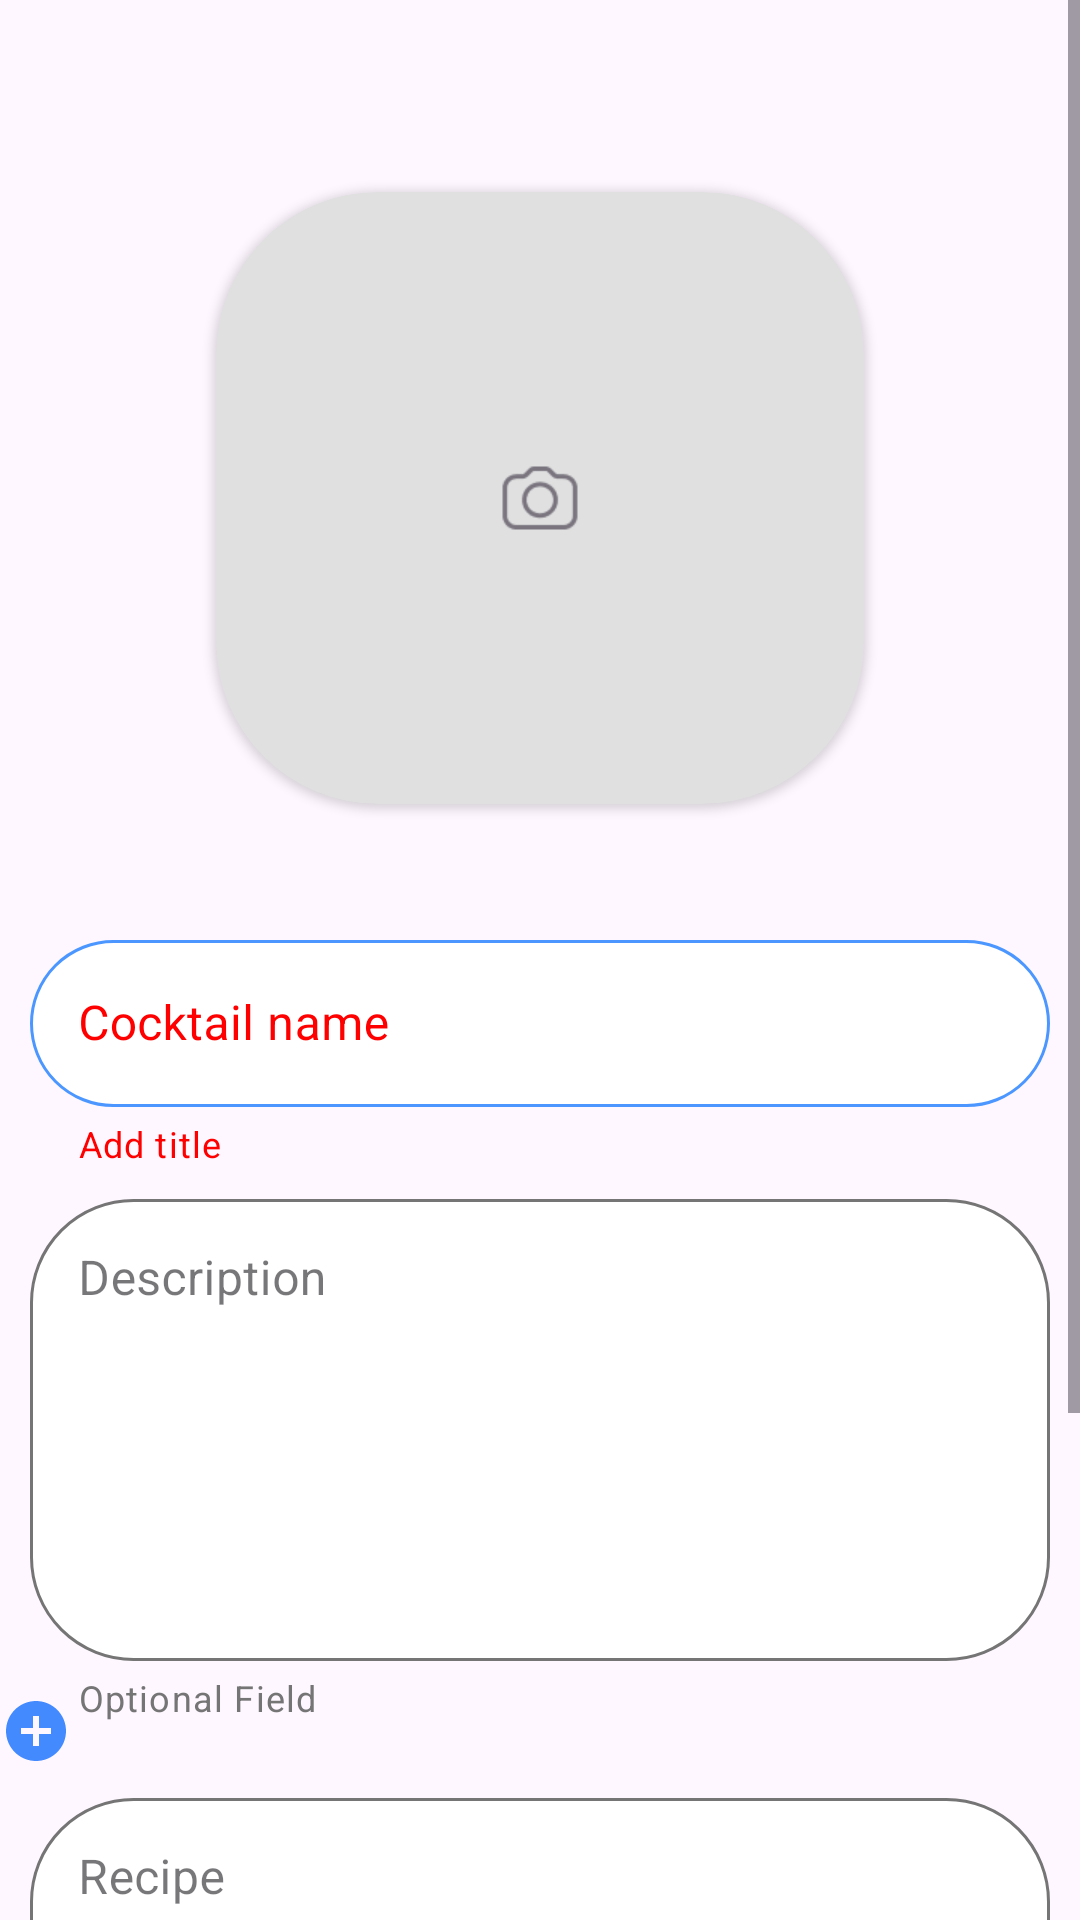

Locate icon controls on the screen. Image size 1080 x 1920, boxes as (x1, y1, x2, y2).
fab add: (6, 1701, 66, 1761)
photo: (502, 466, 578, 530)
